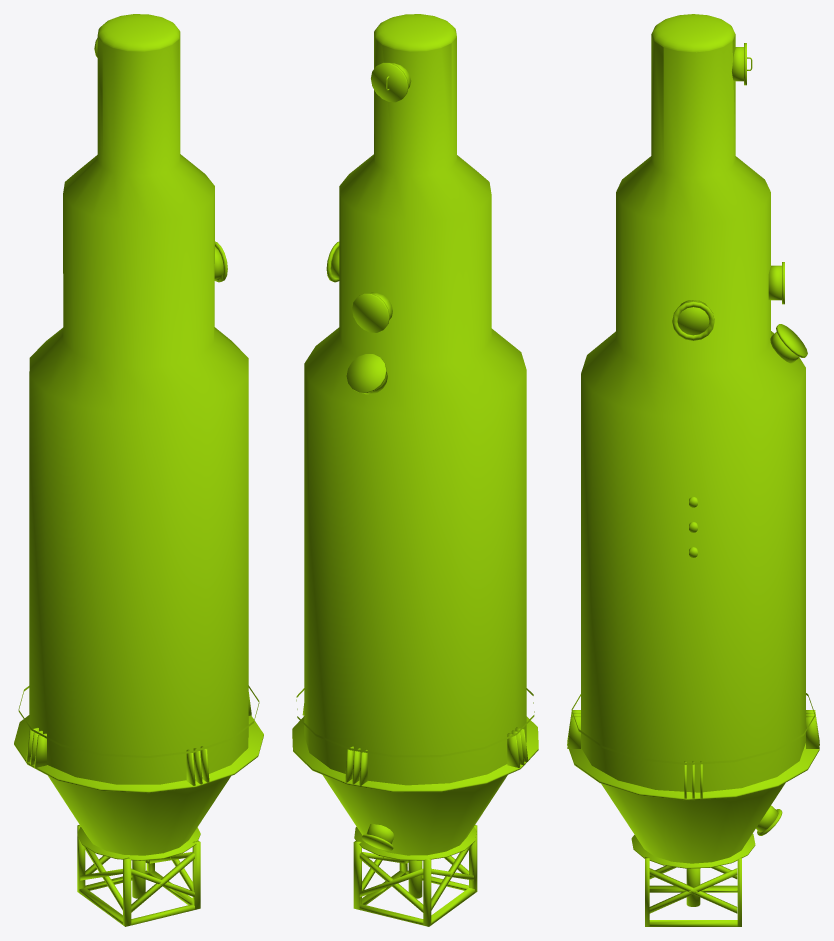
The model's file is Crystalizer.FBX.
3 renders of one model, left to right at view 1: azimuth 30°, elevation 25°; view 2: azimuth 150°, elevation 25°; view 3: azimuth 270°, elevation 25°, orthographic.
Size of the model in its own units: 54.76 by 211 by 54.76.
